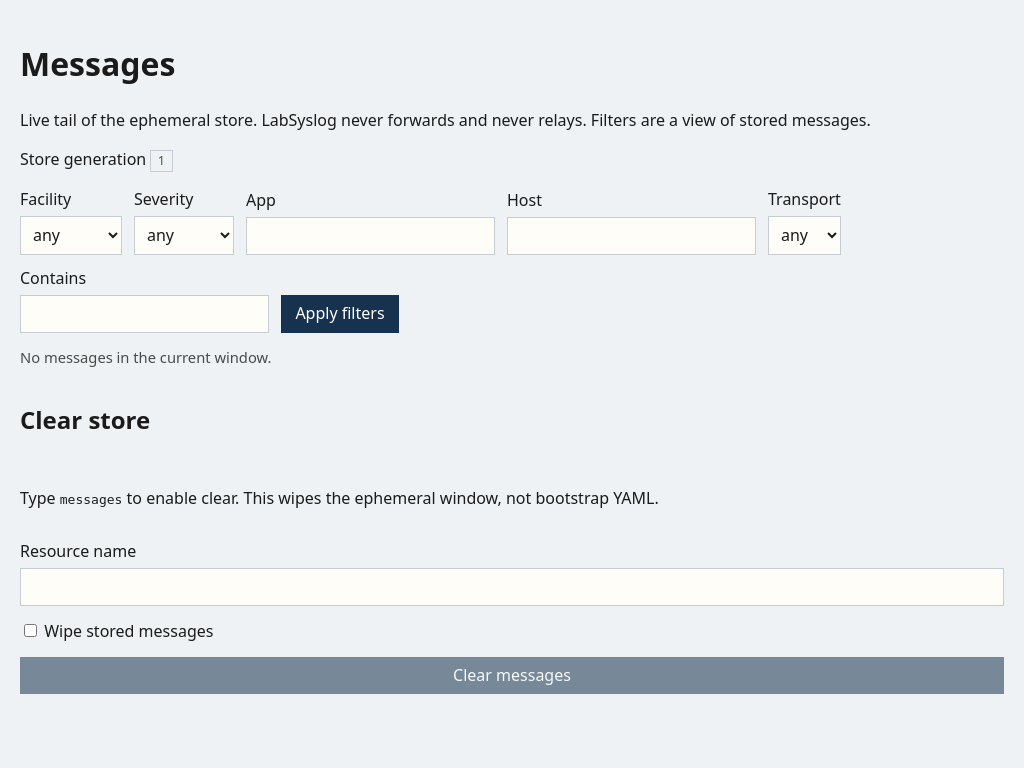
Test case: MessagesPage › enables clear after typing the resource name
Expected: the button "Clear messages" is disabled, [20,657,1004,694]
Type "messages" into the field labelled "Resource name". click: (512, 587)
box: [20,568,1004,606]
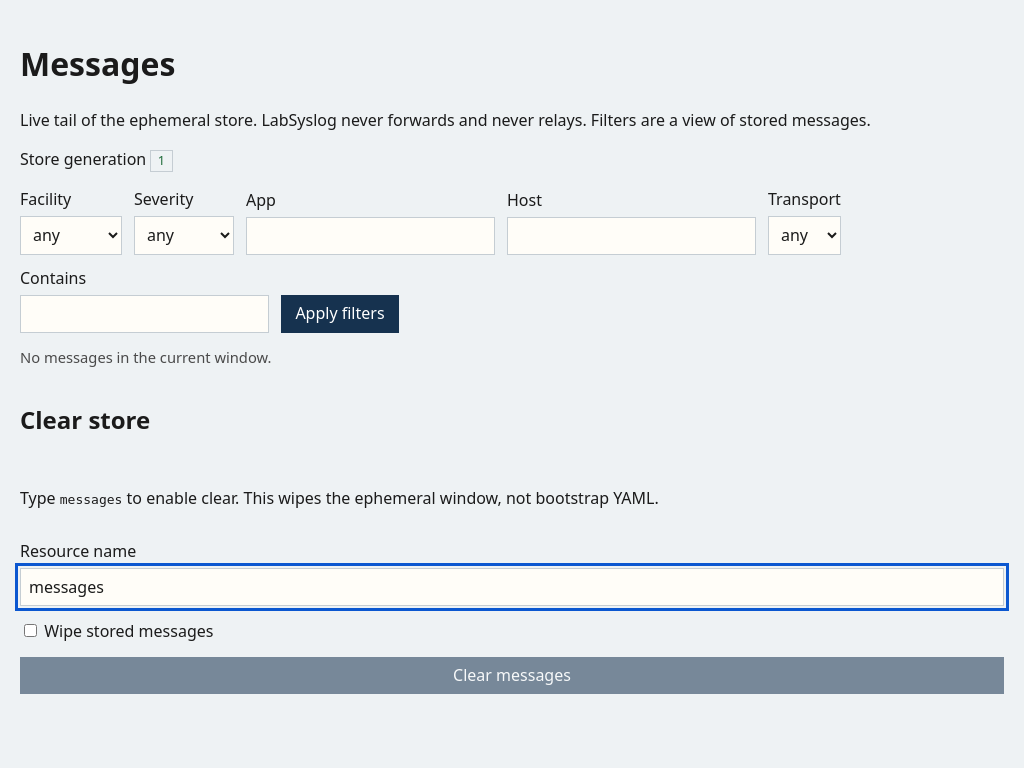
Expected: the button "Clear messages" is disabled, [20,657,1004,694]
Click the checkbox labelled "Wipe stored messages". click: (30, 630)
box: [24,624,37,637]
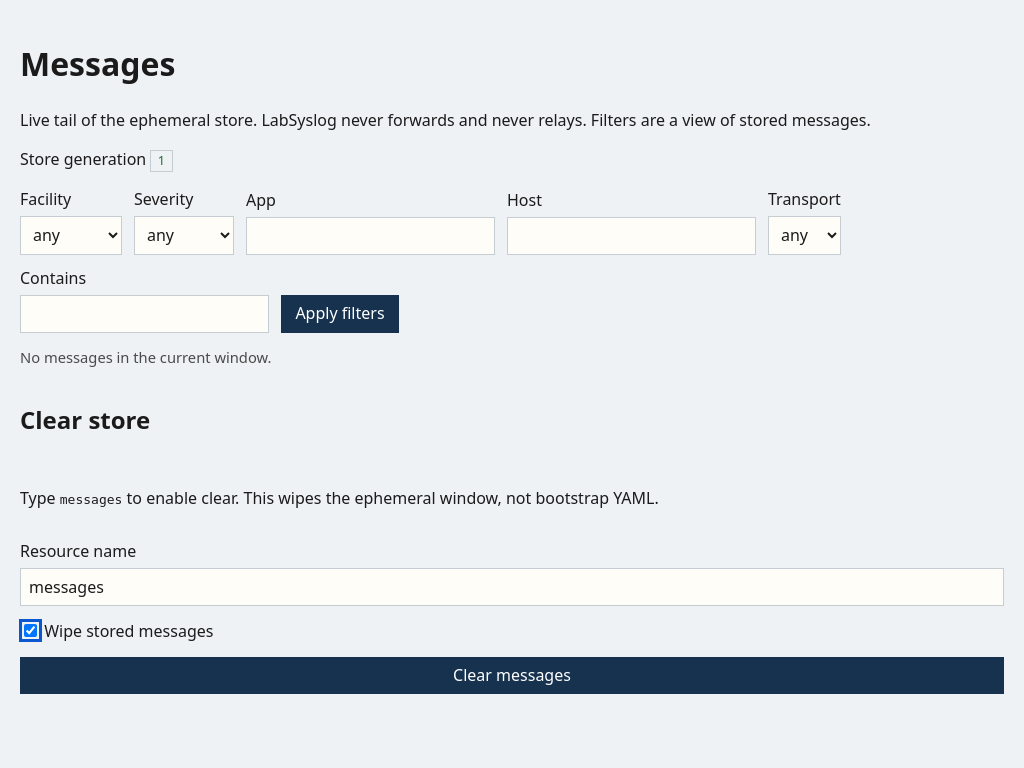
Now the button "Clear messages" is enabled, box [20,657,1004,694]
